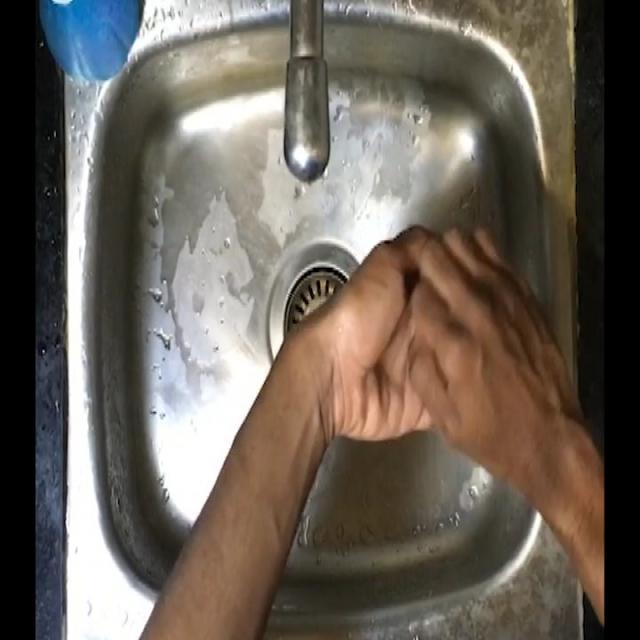step_4: (311, 213, 528, 457)
